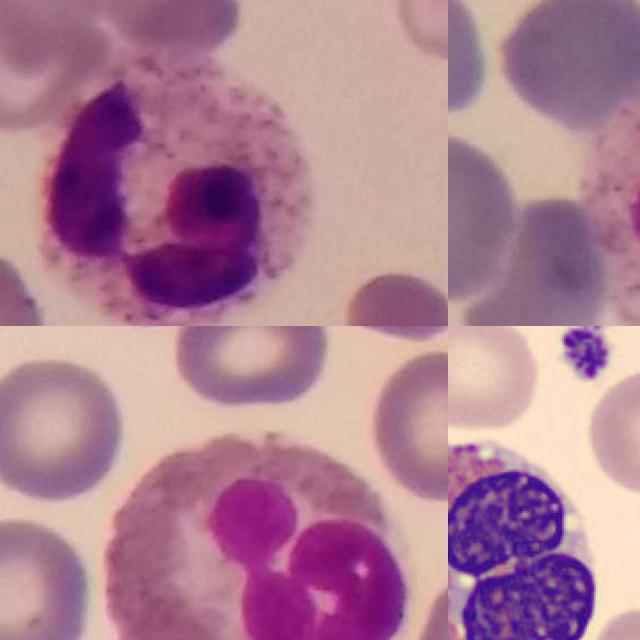Eosinophil: (98, 431, 411, 640), (448, 419, 615, 640)
Neutrophil: (43, 60, 306, 326), (581, 87, 640, 326)
Platelets: (555, 326, 613, 384)
RBC: (448, 326, 544, 433), (581, 365, 640, 499)
